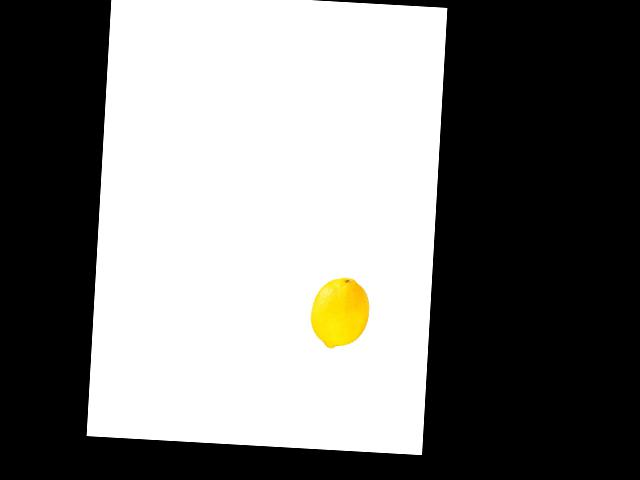lemon: (306, 275, 371, 351)
